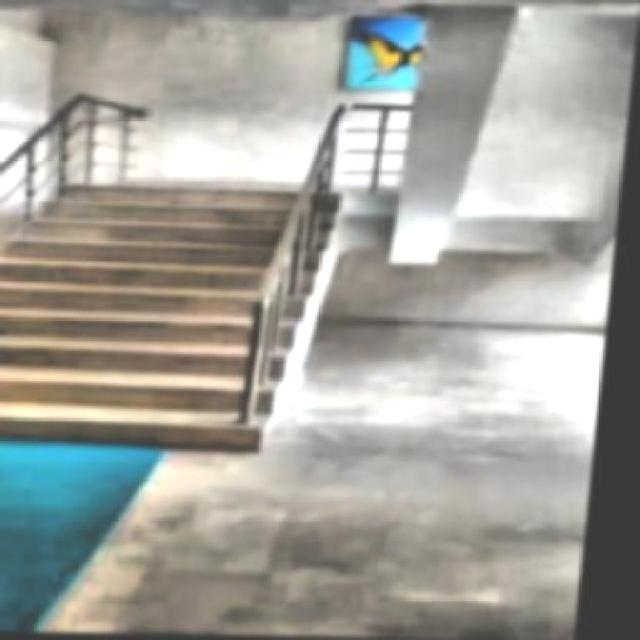stair: (1, 182, 362, 456)
